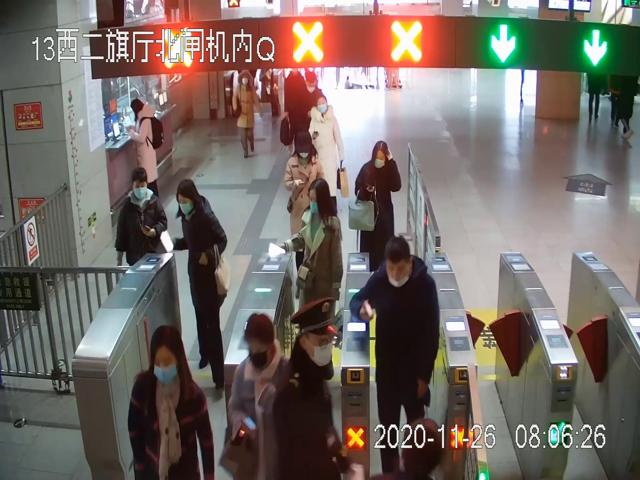person: (351, 236, 441, 477), (130, 325, 216, 480), (173, 177, 230, 398), (286, 180, 343, 378), (350, 140, 402, 274), (116, 167, 170, 268), (283, 131, 327, 240), (309, 96, 348, 215), (125, 100, 165, 200), (231, 70, 263, 158)
